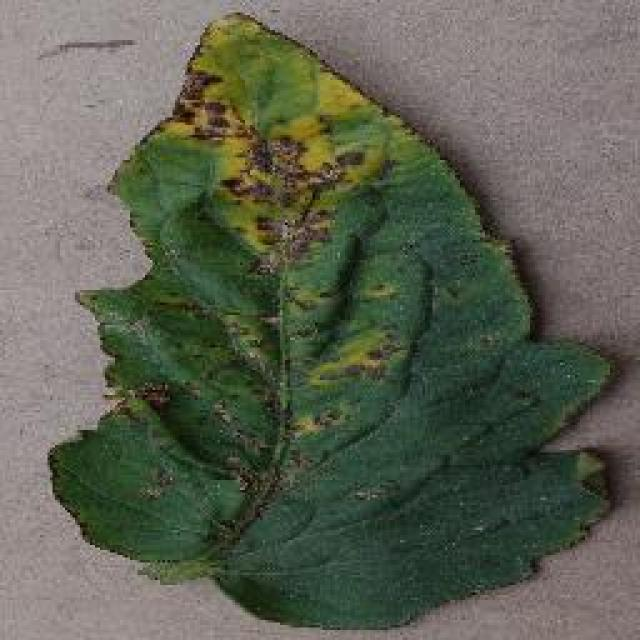Tomato bacterial spot leaf: (58, 19, 620, 631)
